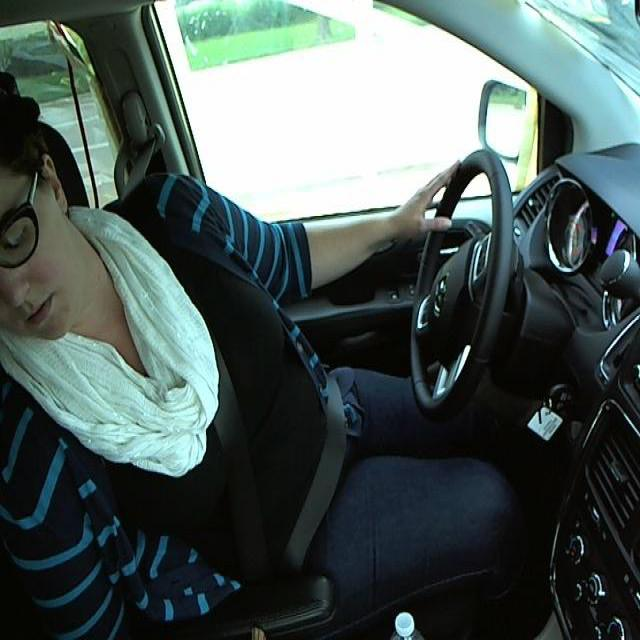seatbelt: (153, 244, 344, 564)
